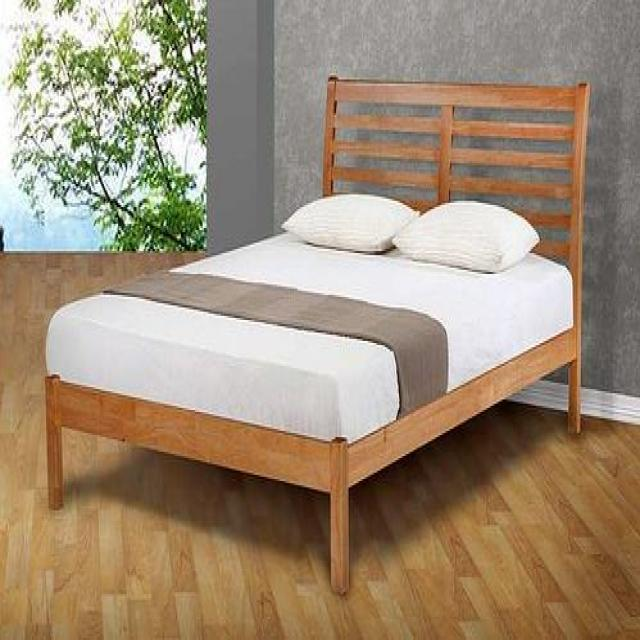bed: (47, 75, 592, 599)
